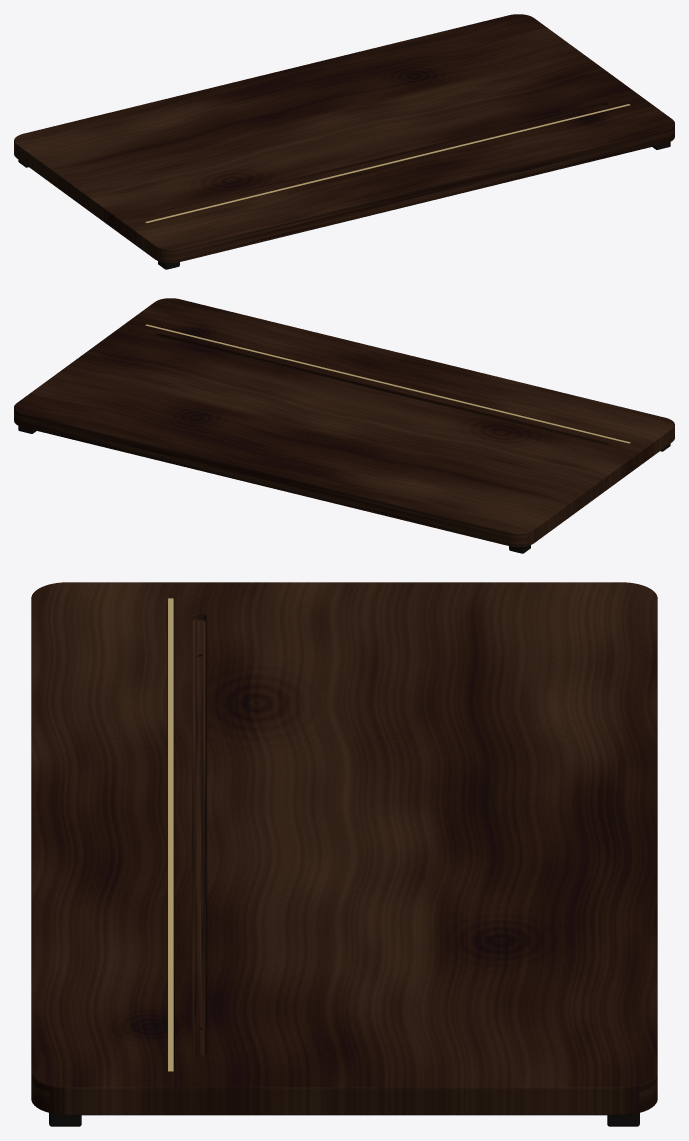
File: tray-reference.glb
3 renders of one model, top to bottom at view 1: azimuth 30°, elevation 25°; view 2: azimuth 150°, elevation 25°; view 3: azimuth 270°, elevation 25°, orthographic. The views are drawn at different scales.
Visible parts, largest first — view 1: tray_walnut_slab, tray_pale_inlay; view 2: tray_walnut_slab, tray_pale_inlay; view 3: tray_walnut_slab, tray_pale_inlay.
Part boxes in pixels (left/top/right/bottom): tray_walnut_slab: left=14, top=14, right=674, bottom=263; tray_pale_inlay: left=145, top=104, right=630, bottom=223; tray_walnut_slab: left=14, top=298, right=674, bottom=547; tray_pale_inlay: left=145, top=324, right=630, bottom=443; tray_walnut_slab: left=31, top=582, right=657, bottom=1115; tray_pale_inlay: left=168, top=598, right=173, bottom=1071.
Bounding box in the file's own units: 0.84 × 0.036 × 0.44.
4 materials, 1 textured.
